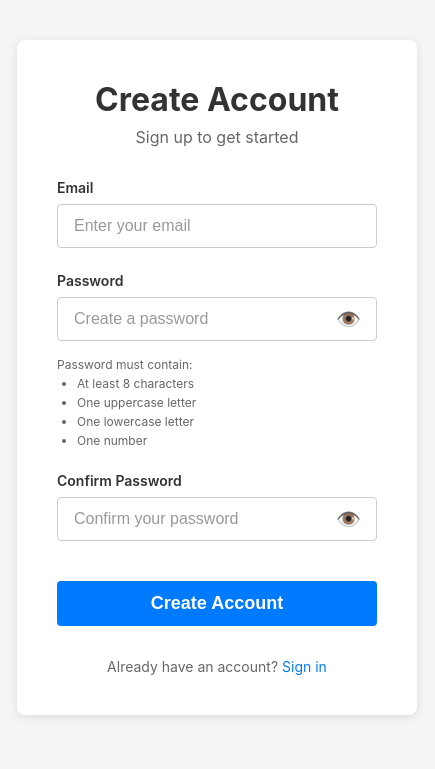
it: Register Component › prevents duplicate email registration
The image size is (435, 769).
Type "existing@example.com" into the field labelled "Email" at (217, 226), box [57,204,377,248]
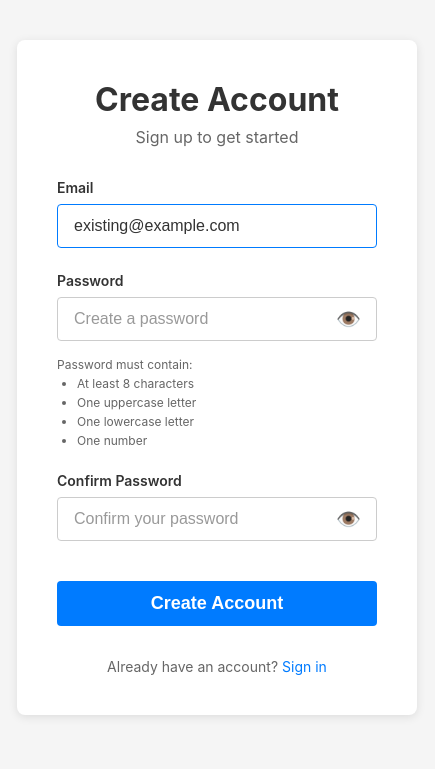
Click the button "Create Account" at (217, 603), box [57,580,377,626]
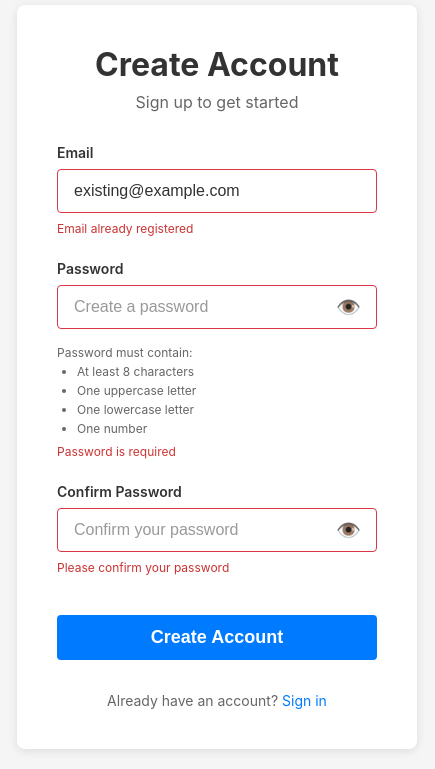
Now the text "Email already registered" is shown, box [57,221,193,236]
